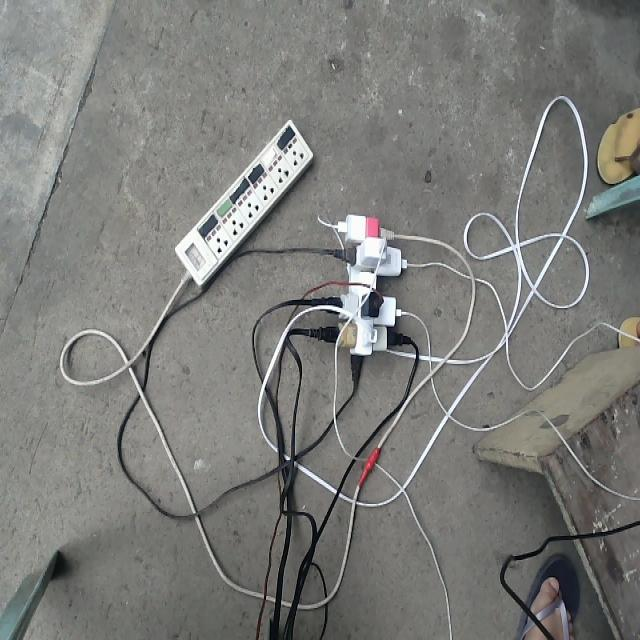-: (288, 194, 437, 414)
